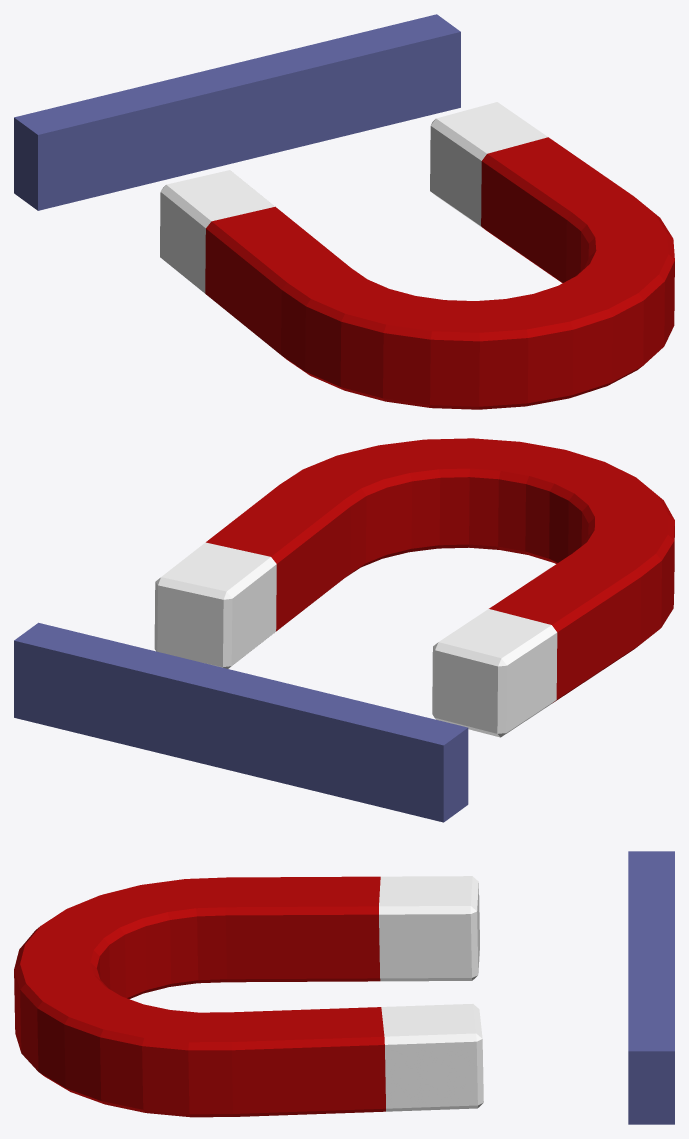
The model's file is magnet_open.glb.
3 renders of one model, top to bottom at view 1: azimuth 30°, elevation 25°; view 2: azimuth 150°, elevation 25°; view 3: azimuth 270°, elevation 25°, orthographic. The views are drawn at different scales.
Visible parts, largest first — view 1: Buffer Layer, Box, Magnet; view 2: Buffer Layer, Box, Magnet; view 3: Buffer Layer, Magnet, Box.
Part boxes in pixels (left/top/right/bottom): Buffer Layer: left=205, top=137, right=674, bottom=409; Box: left=14, top=14, right=460, bottom=210; Magnet: left=160, top=102, right=547, bottom=293; Buffer Layer: left=206, top=438, right=674, bottom=703; Box: left=14, top=622, right=468, bottom=822; Magnet: left=154, top=542, right=557, bottom=737; Buffer Layer: left=14, top=876, right=385, bottom=1117; Magnet: left=379, top=876, right=483, bottom=1111; Box: left=628, top=851, right=674, bottom=1124.
Bounding box in the file's own units: 0.2285 × 0.0451 × 0.3193.
